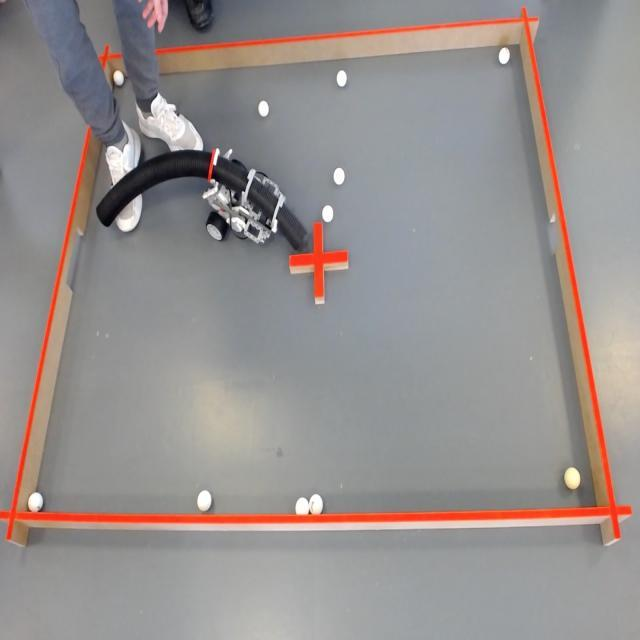robot: (96, 150, 306, 250)
robot-front: (269, 193, 309, 251)
white: (562, 466, 582, 493), (26, 489, 46, 514), (196, 490, 214, 512), (496, 46, 512, 68), (321, 203, 336, 226), (308, 494, 324, 514), (258, 100, 274, 120), (294, 498, 310, 514), (333, 167, 346, 186), (337, 68, 348, 88), (113, 70, 125, 85)
